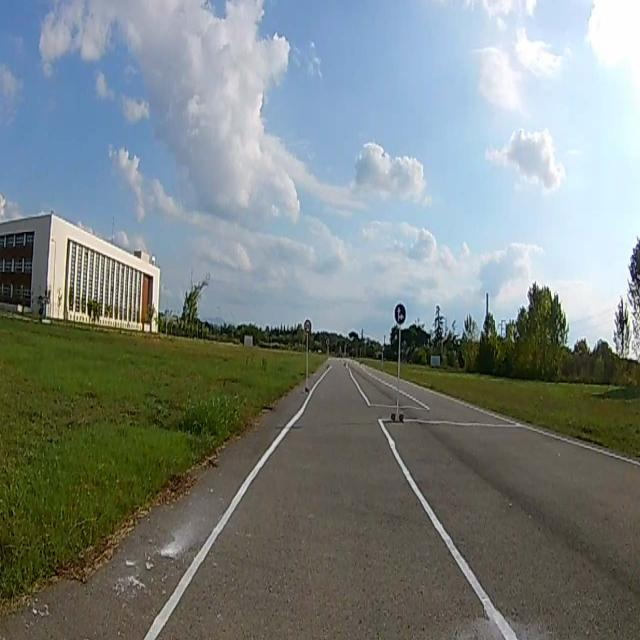ilerisag: (395, 303, 405, 325)
